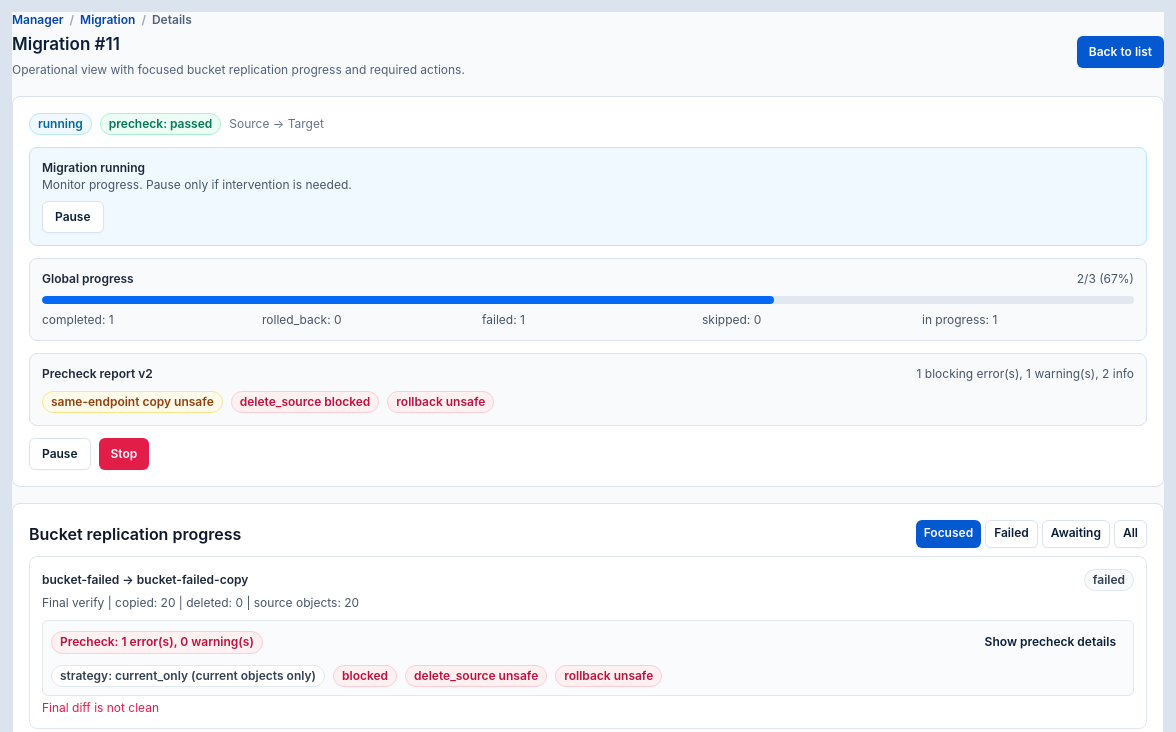
Test: ManagerMigrationDetailPage › shows focused bucket progress with and without source_count
This screenshot has width=1176, height=732.
Expected: the text "bucket-failed -> bucket-failed-copy" is shown, [42,572,248,588]
Click the button "All".
click(1130, 534)  # box [1114,520,1147,548]
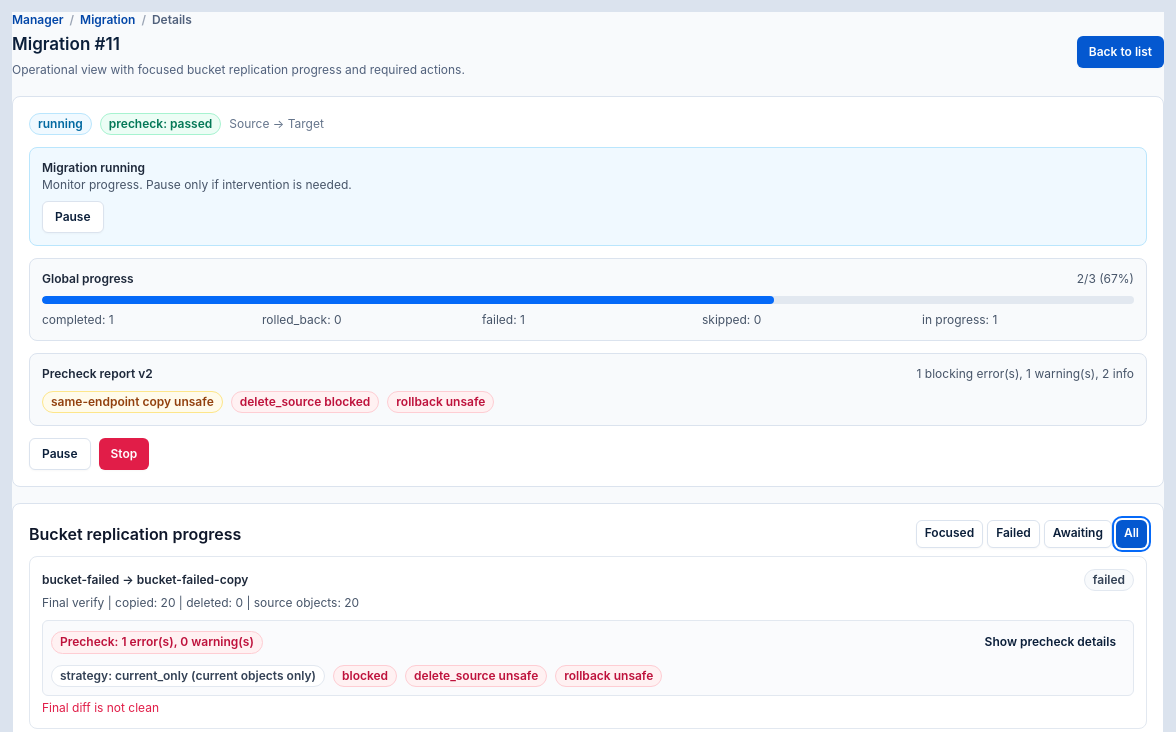
Click the button "Failed".
click(1014, 534)  # box [987,520,1040,548]
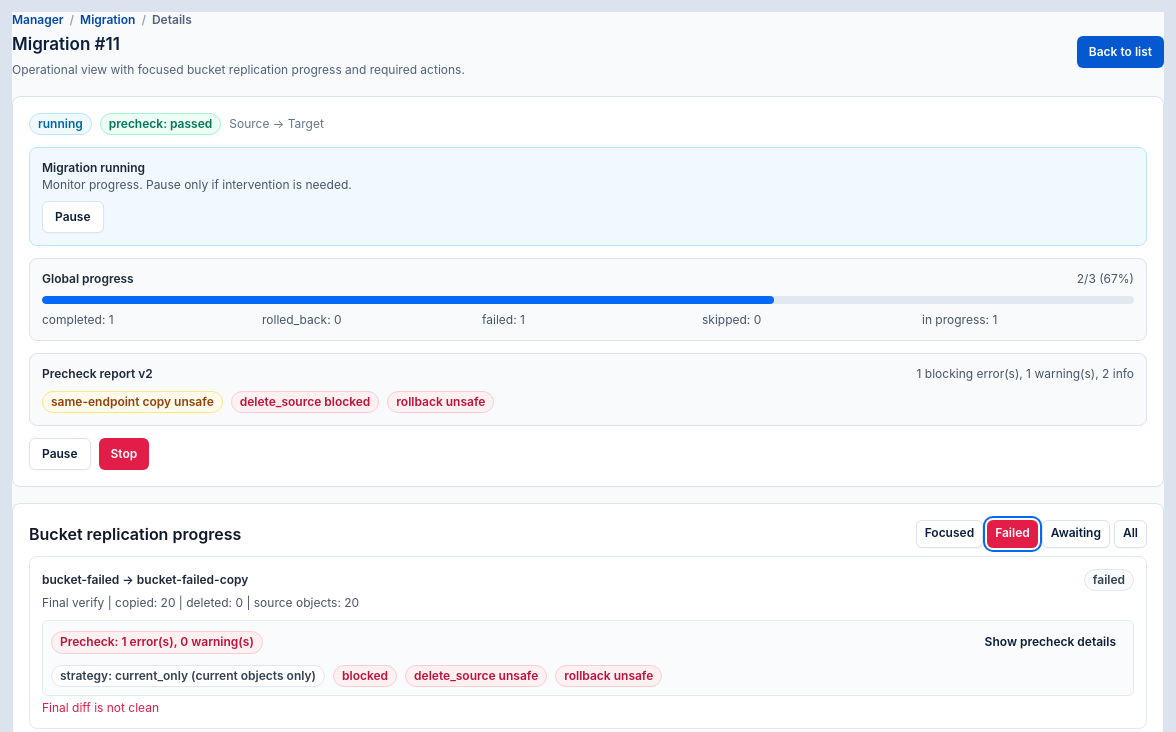
Expected: the text "bucket-failed -> bucket-failed-copy" is shown, [42,572,248,588]
Expected: the text "Precheck: 1 error(s), 0 warning(s)" is shown, [51,631,263,654]
Click the button "Show precheck details".
click(1050, 642)  # box [976,628,1125,656]
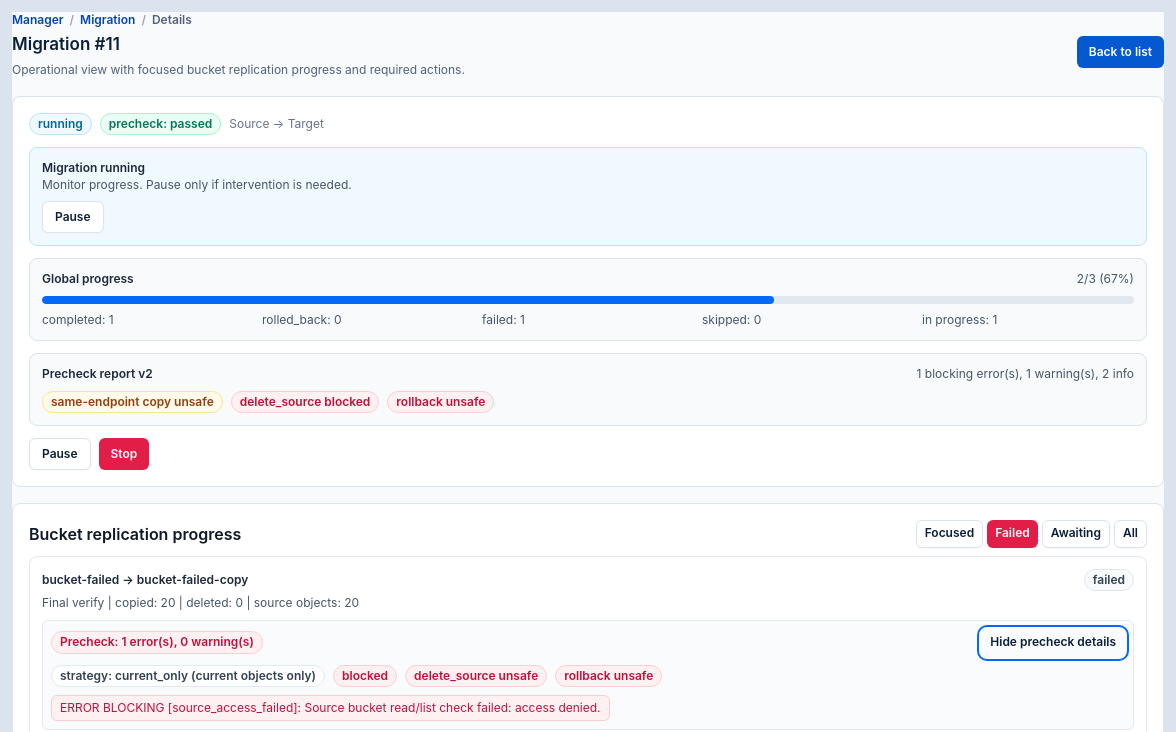
Expected: the text "strategy: current_only (current objects only)" is shown, [51,664,325,686]
Result: the text "Source bucket read/list check failed: access denied." is shown at [304,700,601,714]
